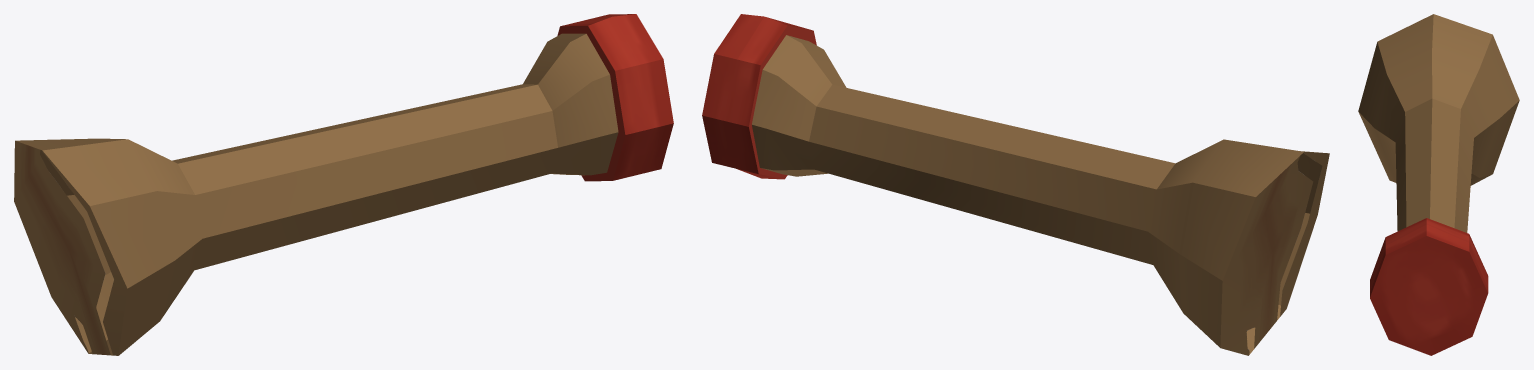
The model's file is Right.Upper Arm.fbx.
3 renders of one model, left to right at view 1: azimuth 30°, elevation 25°; view 2: azimuth 150°, elevation 25°; view 3: azimuth 270°, elevation 25°, orthographic. The views are drawn at different scales.
Visible parts, largest first — view 1: Right.Upper Arm.Object; view 2: Right.Upper Arm.Object; view 3: Right.Upper Arm.Object.
Boxes of the visible parts, bbox=[...] form: Right.Upper Arm.Object: bbox=[14, 14, 673, 355]; Right.Upper Arm.Object: bbox=[702, 14, 1329, 355]; Right.Upper Arm.Object: bbox=[1358, 14, 1519, 355].
Bounding box in the file's own units: 0.7115 × 0.2541 × 0.2219.
